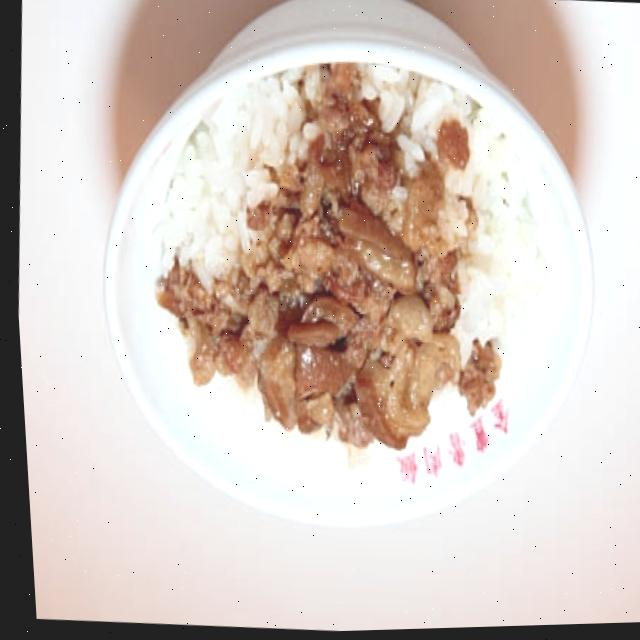猪肉菜式: (56, 0, 632, 560)
